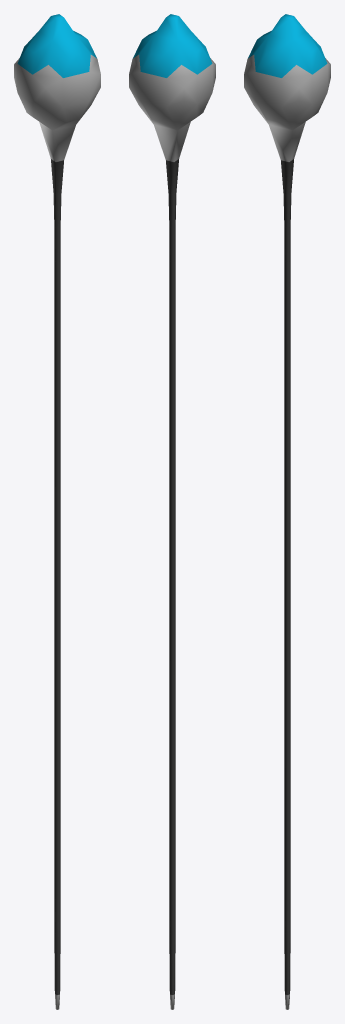
3 views of the same model, side by side, from view 1: azimuth 30°, elevation 25°; view 2: azimuth 150°, elevation 25°; view 3: azimuth 330°, elevation 25° (orthographic).
Bounding box in the file's own units: 0.101 × 1.48 × 0.101.
